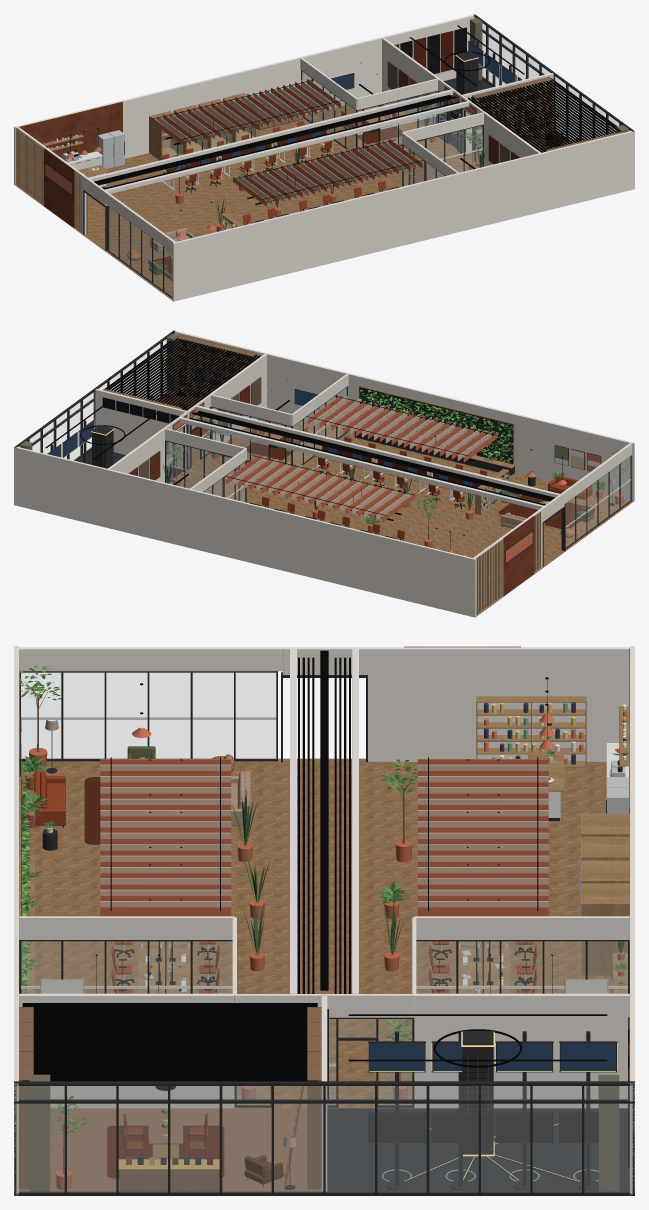
The model's file is wing-terracotta.glb.
3 renders of one model, top to bottom at view 1: azimuth 30°, elevation 25°; view 2: azimuth 150°, elevation 25°; view 3: azimuth 270°, elevation 25°, orthographic. The views are drawn at different scales.
Visible parts, largest first — view 1: wing-terracotta-baked-paint-wall, wing-terracotta-baked-floor, wing-terracotta-ceiling-felt, wing-terracotta-glass-glass, wing-terracotta-ceiling-wood, wing-terracotta-baked-metal-dark, wing-terracotta-baked-wood, wing-terracotta-baked-plaster-accent, wing-terracotta-baked-felt, wing-terracotta-ceiling-ceiling, wing-terracotta-baked-fabric, wing-terracotta-baked-paint (+8 smaller); view 2: wing-terracotta-baked-paint-wall, wing-terracotta-baked-floor, wing-terracotta-ceiling-felt, wing-terracotta-glass-glass, wing-terracotta-ceiling-wood, wing-terracotta-baked-metal-dark, wing-terracotta-baked-paint, wing-terracotta-ceiling-ceiling, wing-terracotta-baked-felt, wing-terracotta-baked-wood, wing-terracotta-baked-foliage, wing-terracotta-baked-fabric (+7 smaller); view 3: wing-terracotta-glass-glass, wing-terracotta-baked-paint-wall, wing-terracotta-baked-floor, wing-terracotta-ceiling-felt, wing-terracotta-baked-metal-dark, wing-terracotta-ceiling-wood, wing-terracotta-baked-wood-dark, wing-terracotta-baked-paint, wing-terracotta-baked-wood, wing-terracotta-baked-foliage, wing-terracotta-baked-fabric, wing-terracotta-baked-gloss (+14 smaller).
Boxes of the visible parts, <box> form: wing-terracotta-baked-paint-wall: <box>14,15,634,301</box>; wing-terracotta-baked-floor: <box>15,103,479,300</box>; wing-terracotta-ceiling-felt: <box>151,79,422,206</box>; wing-terracotta-glass-glass: <box>104,23,621,296</box>; wing-terracotta-ceiling-wood: <box>94,78,619,189</box>; wing-terracotta-baked-metal-dark: <box>45,14,634,298</box>; wing-terracotta-baked-wood: <box>16,93,385,232</box>; wing-terracotta-baked-plaster-accent: <box>18,101,122,227</box>; wing-terracotta-baked-felt: <box>148,27,520,280</box>; wing-terracotta-ceiling-ceiling: <box>89,89,469,193</box>; wing-terracotta-baked-fabric: <box>127,104,558,275</box>; wing-terracotta-baked-paint: <box>163,73,577,229</box>; wing-terracotta-baked-paint-wall: <box>14,331,634,617</box>; wing-terracotta-baked-floor: <box>169,419,633,616</box>; wing-terracotta-ceiling-felt: <box>226,395,497,522</box>; wing-terracotta-glass-glass: <box>27,339,630,547</box>; wing-terracotta-ceiling-wood: <box>103,338,554,505</box>; wing-terracotta-baked-metal-dark: <box>14,330,631,566</box>; wing-terracotta-baked-paint: <box>77,340,600,540</box>; wing-terracotta-ceiling-ceiling: <box>179,405,559,509</box>; wing-terracotta-baked-felt: <box>102,377,594,528</box>; wing-terracotta-baked-wood: <box>263,386,549,614</box>; wing-terracotta-baked-foliage: <box>160,353,628,525</box>; wing-terracotta-baked-fabric: <box>179,403,615,539</box>; wing-terracotta-glass-glass: <box>19,673,629,1192</box>; wing-terracotta-baked-paint-wall: <box>14,646,634,1195</box>; wing-terracotta-baked-floor: <box>19,758,629,1191</box>; wing-terracotta-ceiling-felt: <box>100,759,548,916</box>; wing-terracotta-baked-metal-dark: <box>14,671,634,1195</box>; wing-terracotta-ceiling-wood: <box>22,657,350,1081</box>; wing-terracotta-baked-wood-dark: <box>19,681,415,1191</box>; wing-terracotta-baked-paint: <box>21,717,629,1191</box>; wing-terracotta-baked-wood: <box>19,696,629,993</box>; wing-terracotta-baked-foliage: <box>20,665,626,1132</box>; wing-terracotta-baked-fabric: <box>34,719,537,1149</box>; wing-terracotta-baked-gloss: <box>25,702,626,1190</box>.
Size of what is drawn, in the model's own units: 30 by 3.63 by 18.
Materials: 28 (9 with a texture image).
